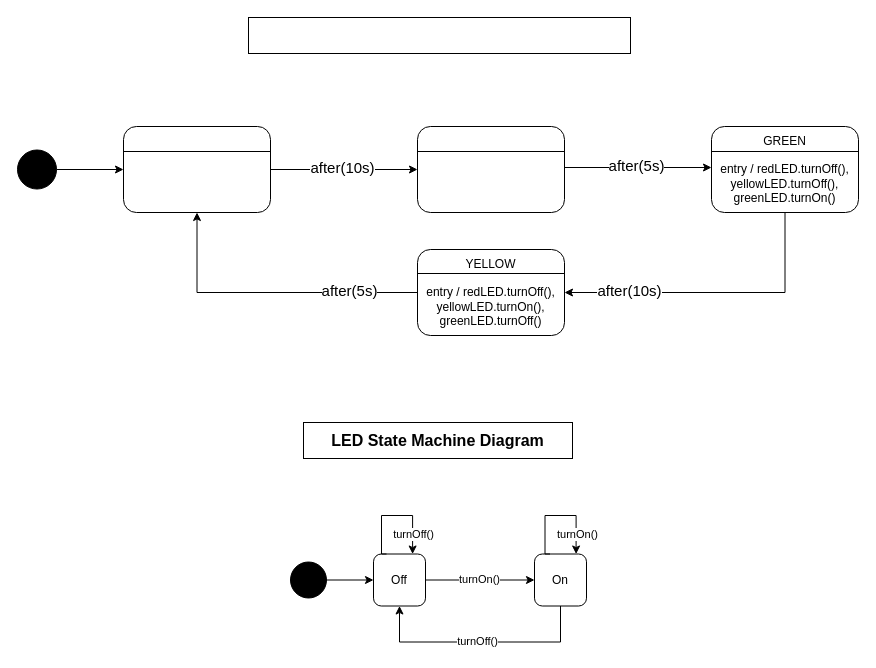
Image size: 876x668. Some labels were removed from this diagram. Each missing label, with the centre of its shape:
RED entry / redLED.turnOn(), yellowLED.turnOff(), greenLED.turnOff(): point 196,169
RED_YELLOW entry / redLED.turnOn(), yellowLED.turnOn(), greenLED.turnOff(): point 490,169
Traffic Light Controller State Machine Diagram: point 439,35
